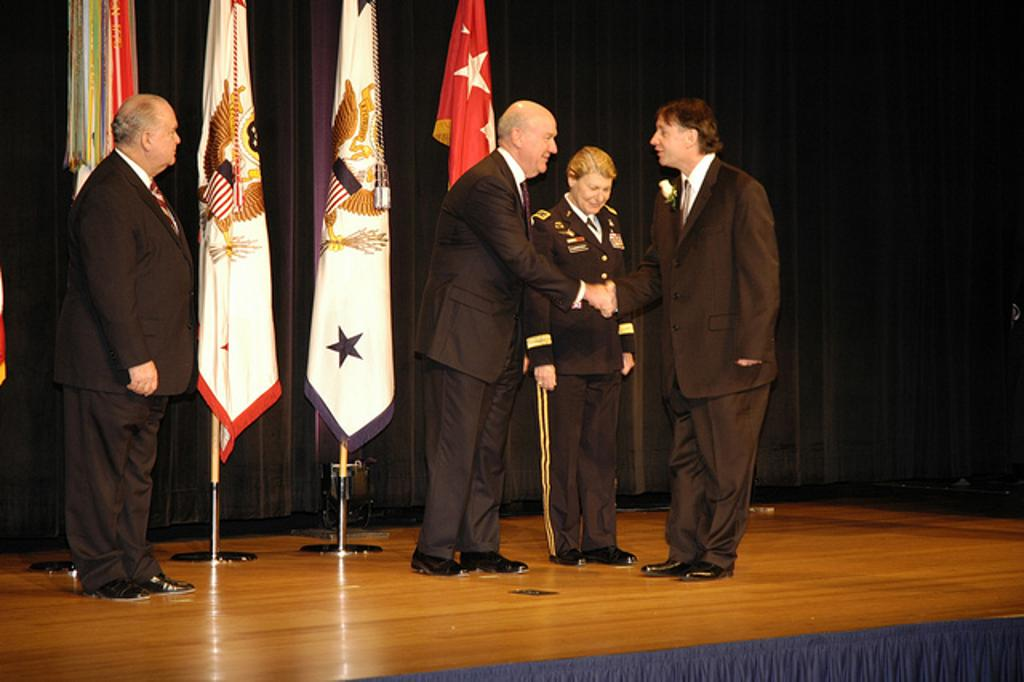face: (521, 117, 557, 173), (150, 98, 180, 165), (649, 114, 685, 164), (576, 174, 612, 214)
